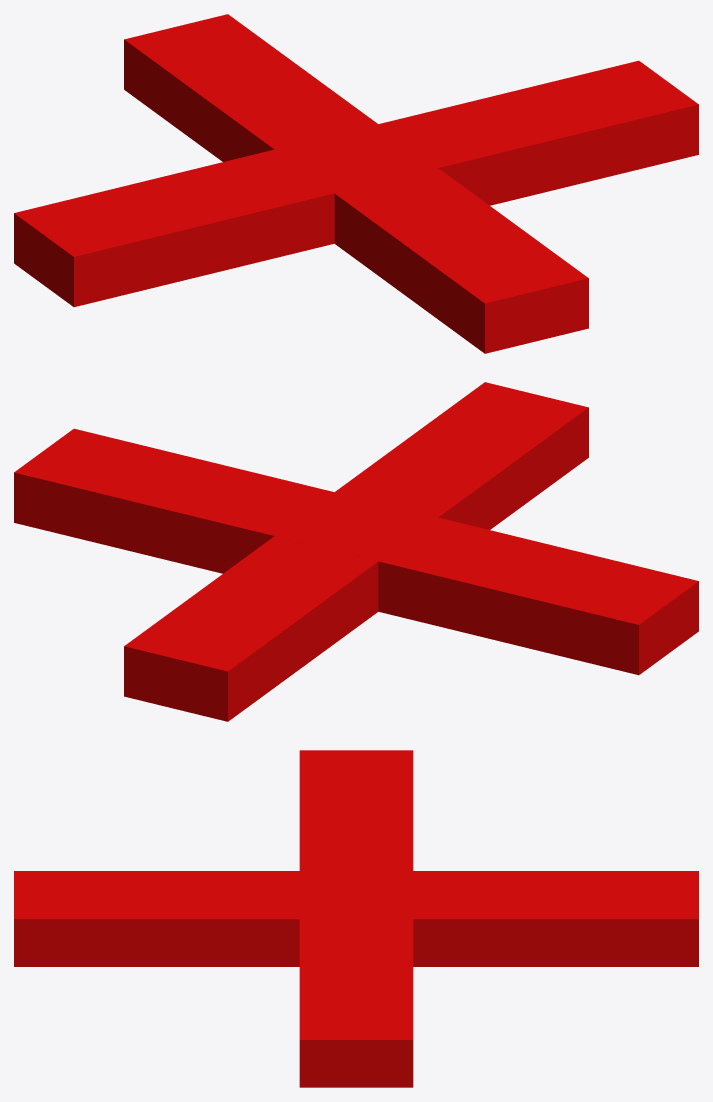
File: red cross.fbx
3 renders of one model, top to bottom at view 1: azimuth 30°, elevation 25°; view 2: azimuth 150°, elevation 25°; view 3: azimuth 270°, elevation 25°, orthographic. The views are drawn at different scales.
Visible parts, largest first — view 1: Cube, Cube.001; view 2: Cube, Cube.001; view 3: Cube.001, Cube.
Part boxes in pixels (bbox=[...]): Cube: bbox=[14, 60, 698, 307]; Cube.001: bbox=[124, 14, 588, 353]; Cube: bbox=[14, 428, 698, 675]; Cube.001: bbox=[124, 382, 588, 721]; Cube.001: bbox=[14, 871, 698, 966]; Cube: bbox=[299, 750, 413, 1087].
Bounding box in the file's own units: 260 × 20.01 × 260.
